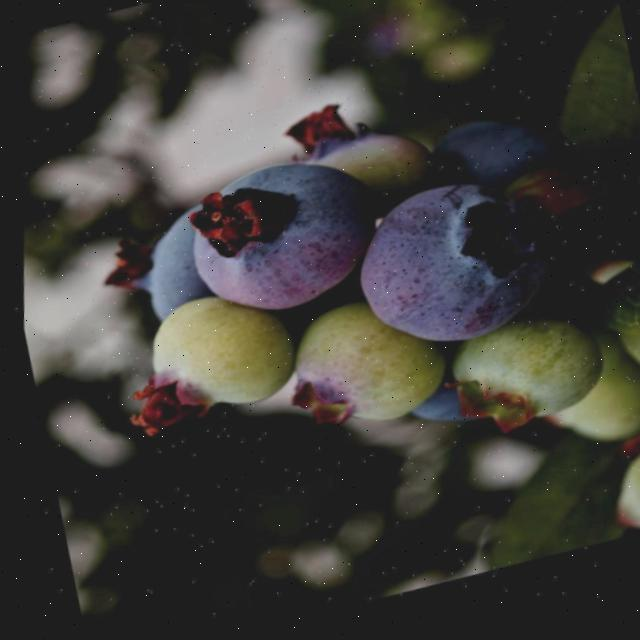Semi-RipeBlueBerry: (328, 158, 568, 386), (161, 137, 386, 349)
UnripeBlueBerry: (109, 277, 299, 451)
